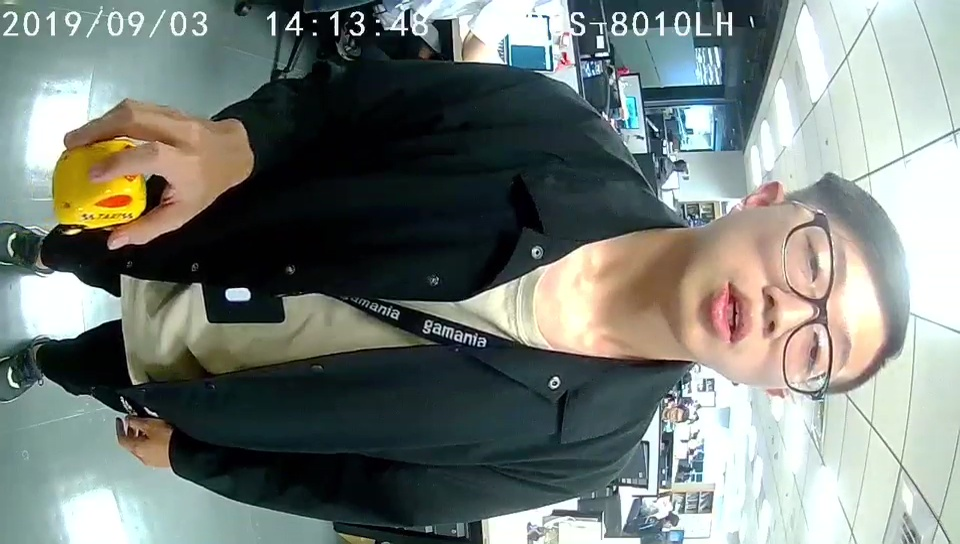car: (54, 142, 147, 224)
